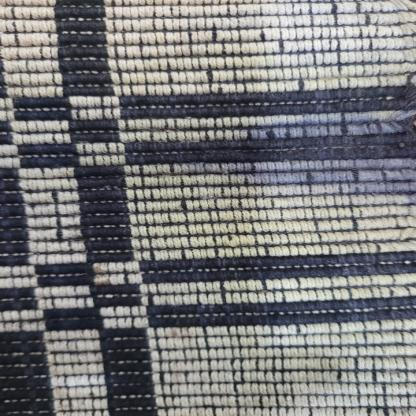spot: (236, 101, 413, 223)
